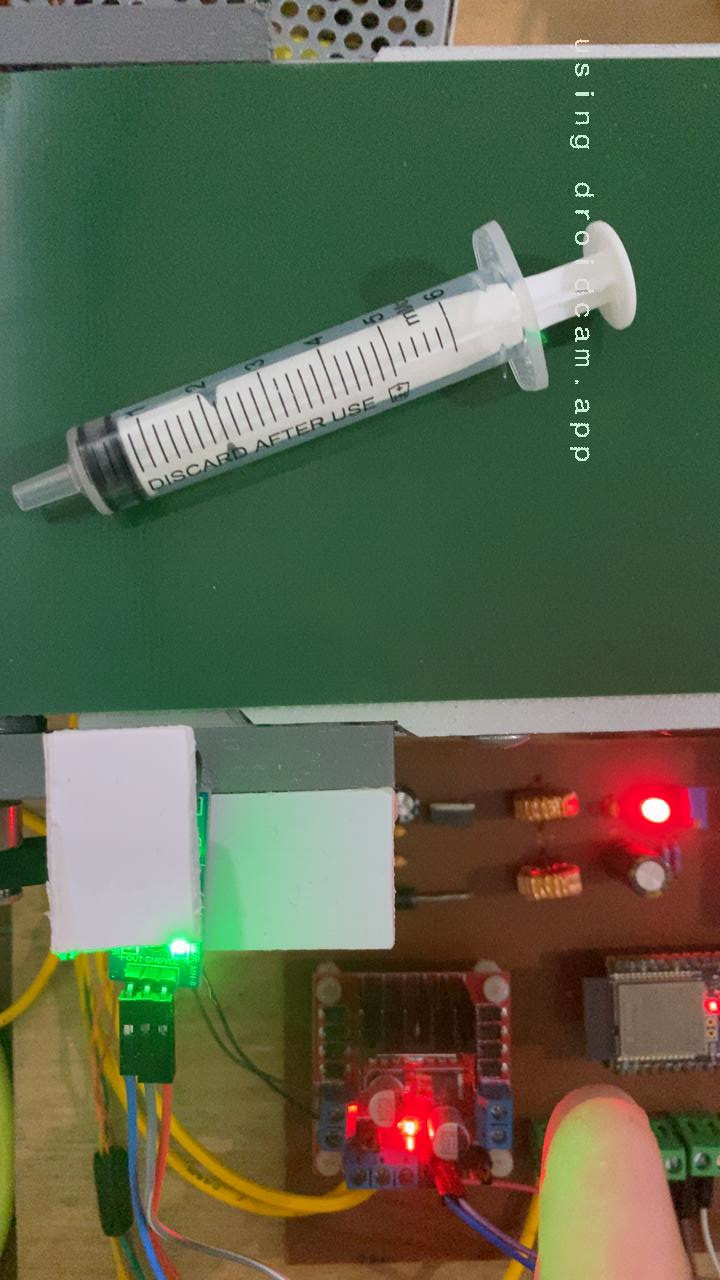syringe: (6, 203, 646, 521)
